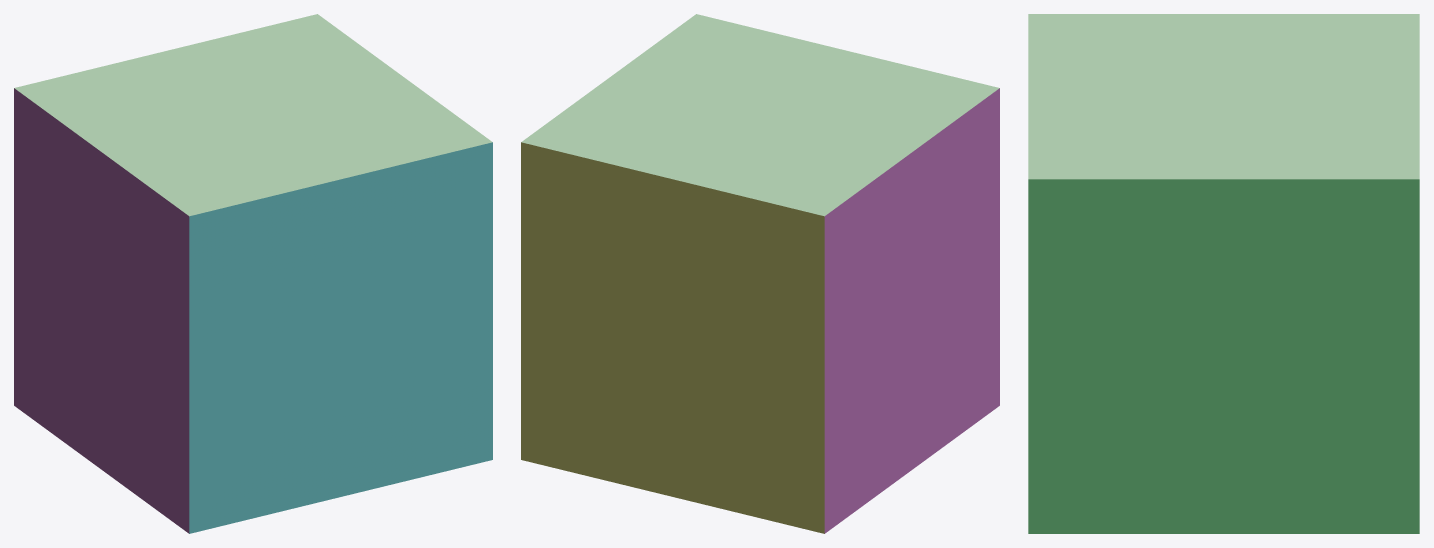
The model's file is BOXTEST.glb.
The picture shows the model from 3 angles, left to right: view 1: azimuth 30°, elevation 25°; view 2: azimuth 150°, elevation 25°; view 3: azimuth 270°, elevation 25°; orthographic projection. The views are drawn at different scales.
Visible parts, largest first — view 1: Box001_001_003, Box001_001_006, Box001_001_002; view 2: Box001_001_005, Box001_001_006, Box001_001_002; view 3: Box001_001_004, Box001_001_002.
Part boxes in pixels (<box>): Box001_001_003: <box>189,142,492,533</box>; Box001_001_006: <box>14,88,189,533</box>; Box001_001_002: <box>14,14,492,216</box>; Box001_001_005: <box>521,142,824,533</box>; Box001_001_006: <box>824,88,999,533</box>; Box001_001_002: <box>521,14,999,216</box>; Box001_001_004: <box>1028,179,1419,533</box>; Box001_001_002: <box>1028,14,1419,179</box>.
Bounding box in the file's own units: 1 × 1 × 1.
